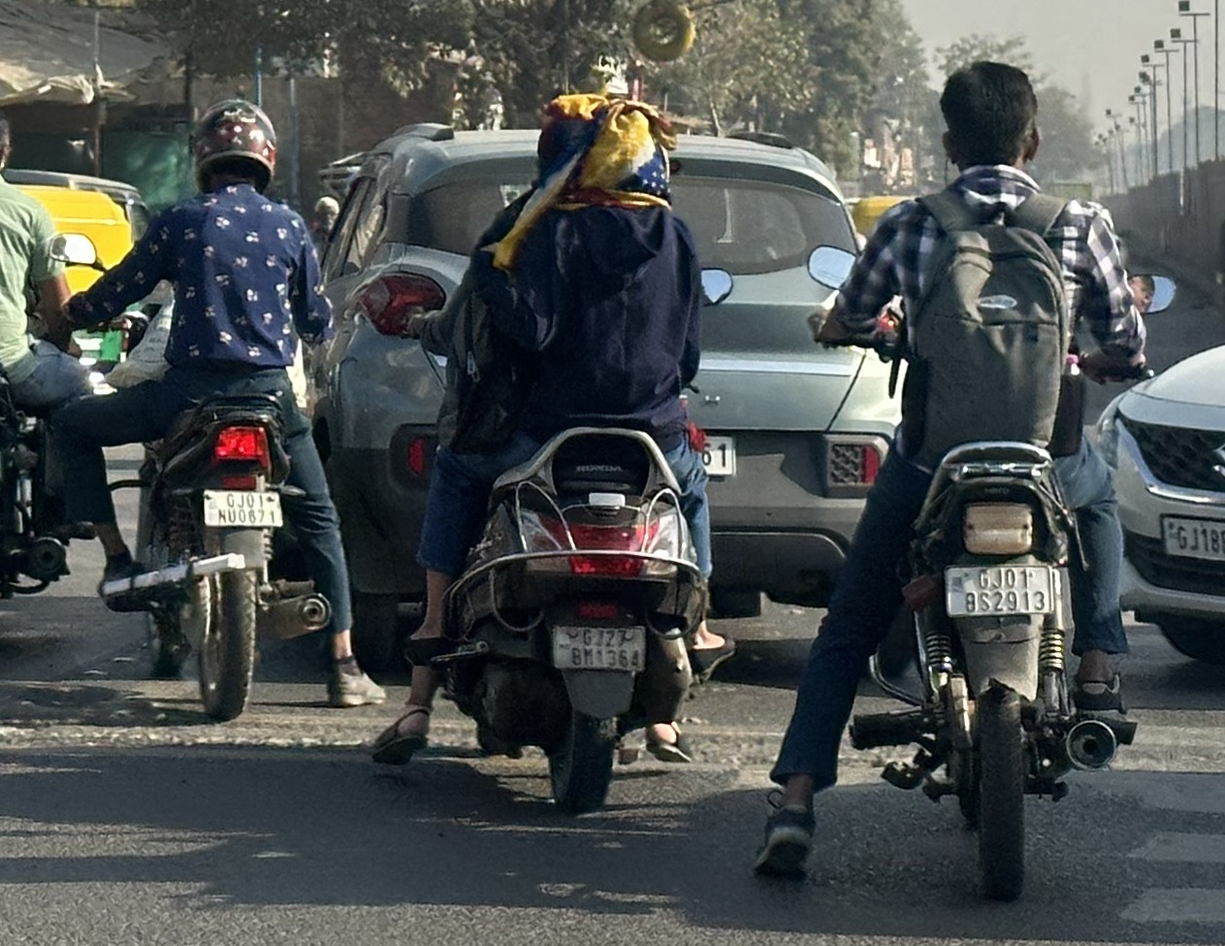BikeWithRider: (742, 56, 1185, 894), (360, 89, 731, 817), (43, 94, 379, 731)
Helmet: (183, 94, 279, 198)
NoHelmet: (938, 56, 1049, 186), (587, 94, 676, 206), (535, 92, 633, 181)
